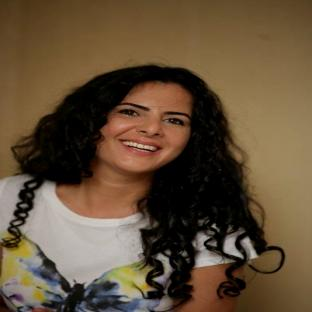Human: (1, 65, 285, 311)
